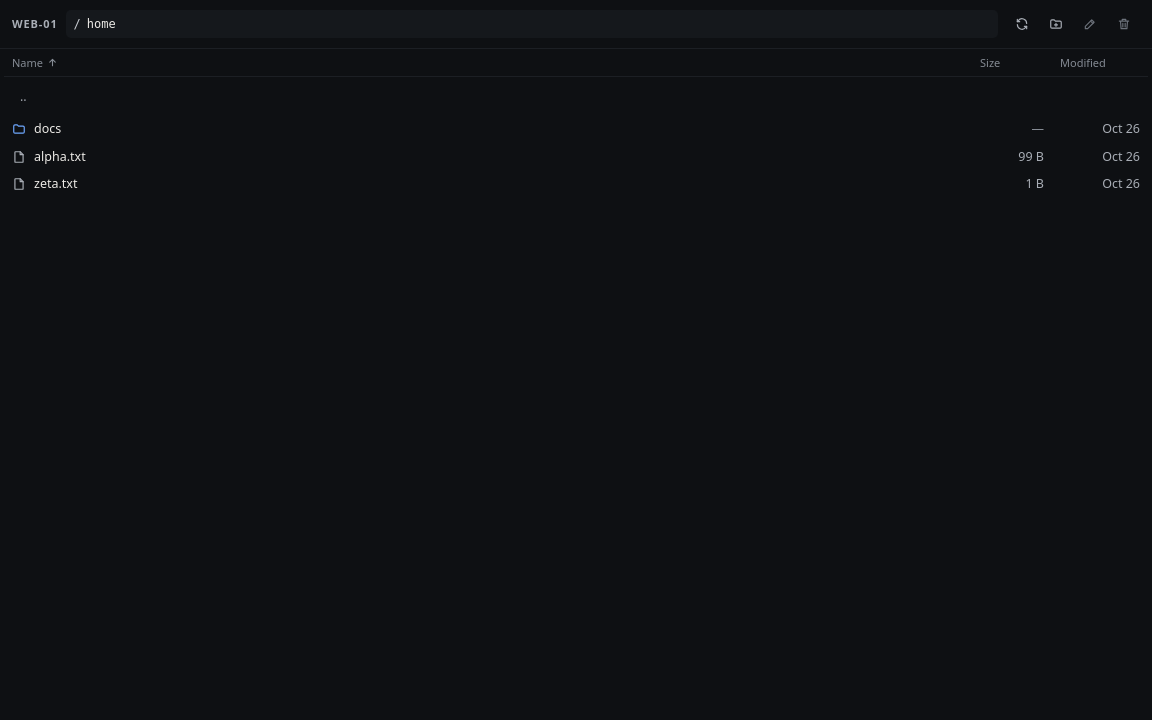
Test: FilePane › names the server and full paths in the delete confirmation
Click the text "alpha.txt". click: (49, 156)
box: [12,148,86,165]
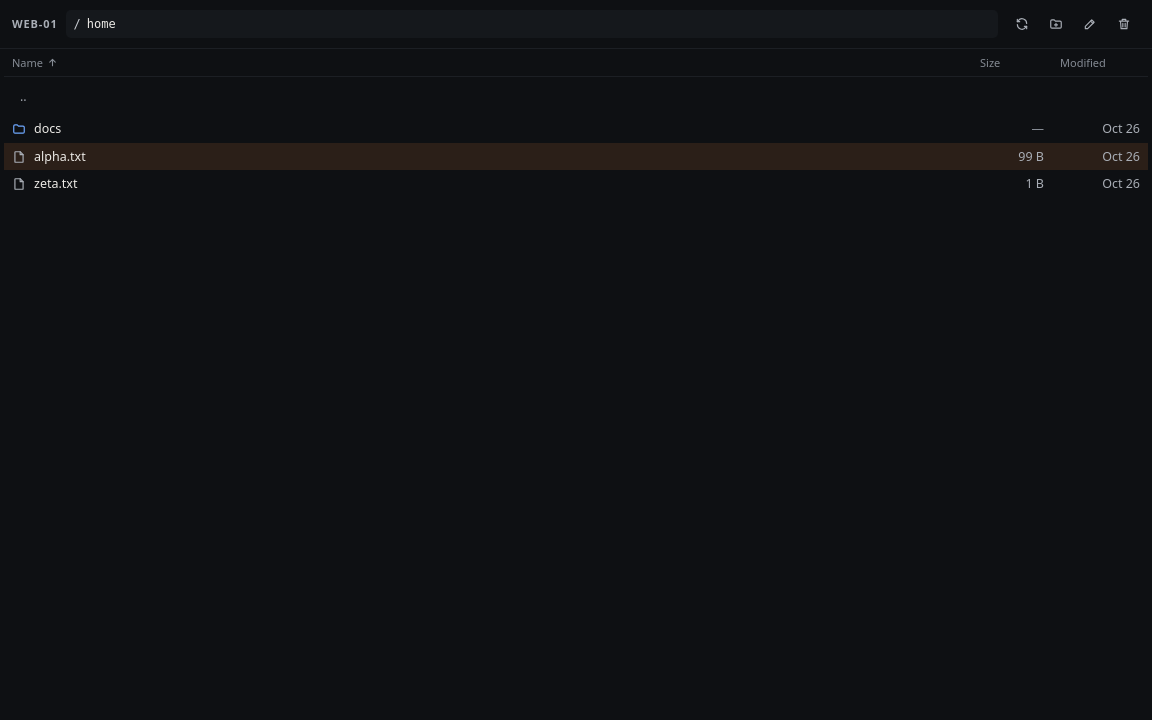
Click the button named "Delete". click: (1124, 24)
box: [1108,8,1140,40]
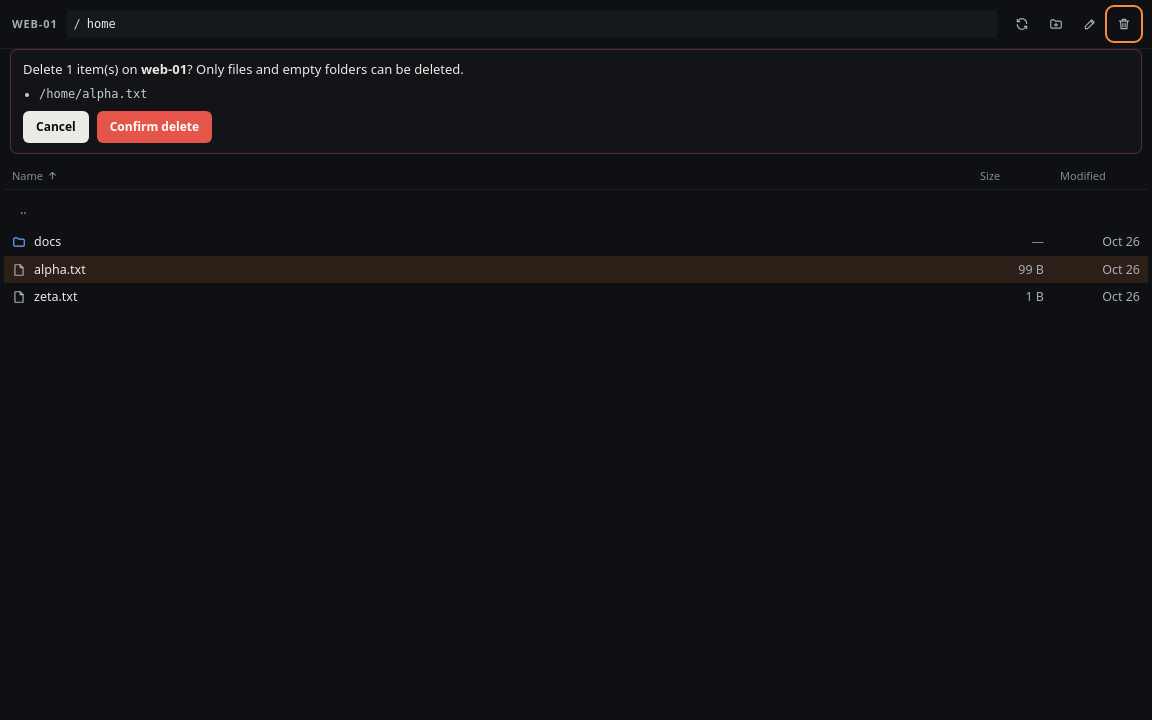
Expected: the dialog named "Confirm delete" shows "Delete 1 item(s) on web-01?", [10,49,1142,154]
Expected: the text "/home/alpha.txt" is shown, [39,87,147,101]
